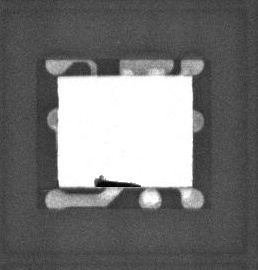DIE_BROKEN: (90, 173, 145, 188)
